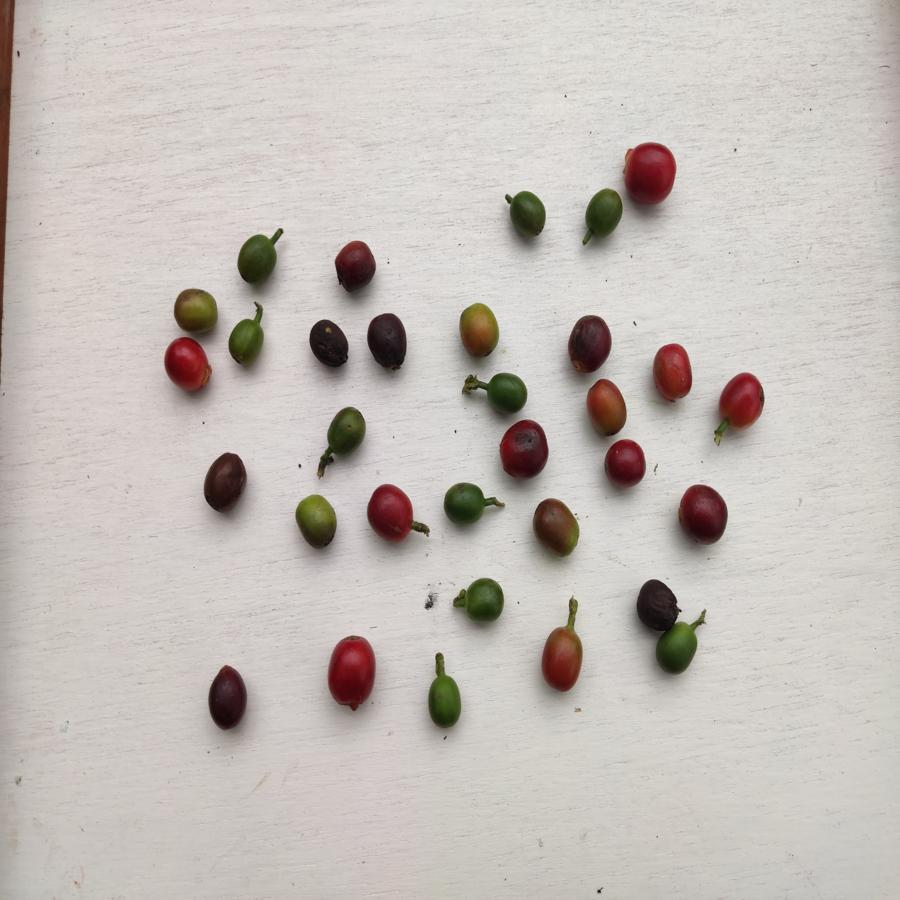Inmaduro: (482, 370, 537, 420), (233, 234, 281, 286), (425, 675, 465, 734), (656, 622, 698, 677), (585, 185, 625, 241), (461, 576, 506, 625), (325, 407, 368, 456), (441, 482, 487, 526), (506, 192, 549, 239), (226, 316, 263, 363)
Maduro: (325, 633, 378, 710), (627, 140, 680, 207), (649, 339, 698, 404), (364, 484, 417, 544), (164, 335, 217, 392), (718, 372, 769, 431), (601, 439, 651, 489)
Pinton: (541, 625, 587, 694), (293, 490, 341, 553), (531, 498, 580, 557), (584, 377, 629, 436), (456, 302, 502, 359), (171, 286, 221, 334)
Sobremaduro: (677, 482, 731, 546), (204, 663, 250, 731), (498, 419, 550, 478), (568, 309, 612, 373), (202, 452, 246, 514), (367, 314, 410, 374), (331, 239, 379, 291), (635, 578, 678, 632), (308, 318, 351, 369)
